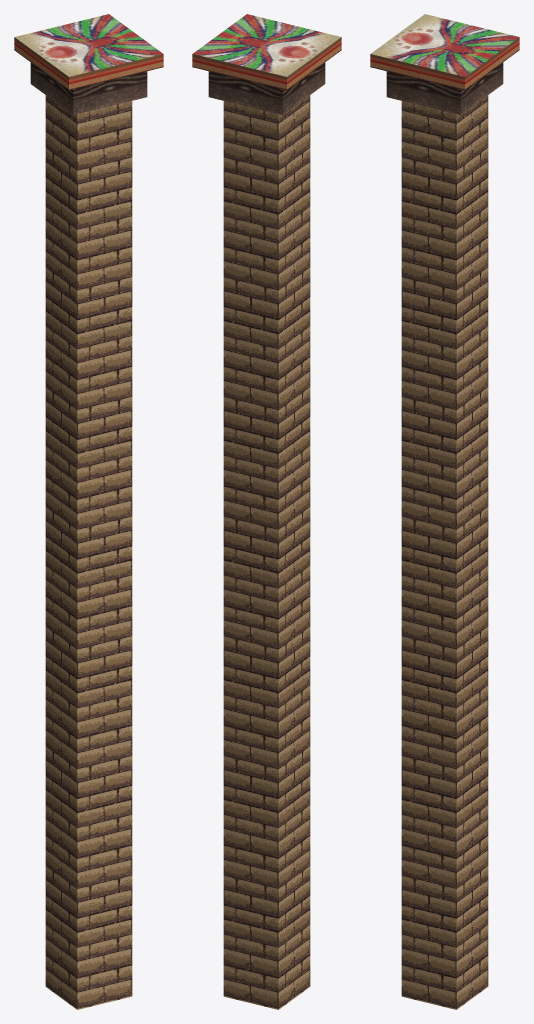
File: pedestal.glb
3 views of the same model, side by side, from view 1: azimuth 30°, elevation 25°; view 2: azimuth 150°, elevation 25°; view 3: azimuth 330°, elevation 25° (orthographic).
Parts seen in each view (by area): view 1: Plane; view 2: Plane; view 3: Plane.
Part boxes in pixels (box(x1,y1,x2,y2)): Plane: box(14, 14, 163, 1009); Plane: box(192, 14, 341, 1009); Plane: box(370, 14, 519, 1009).
Bounding box in the file's own units: 5.42 × 51.88 × 5.42.
1 material, 1 textured.
